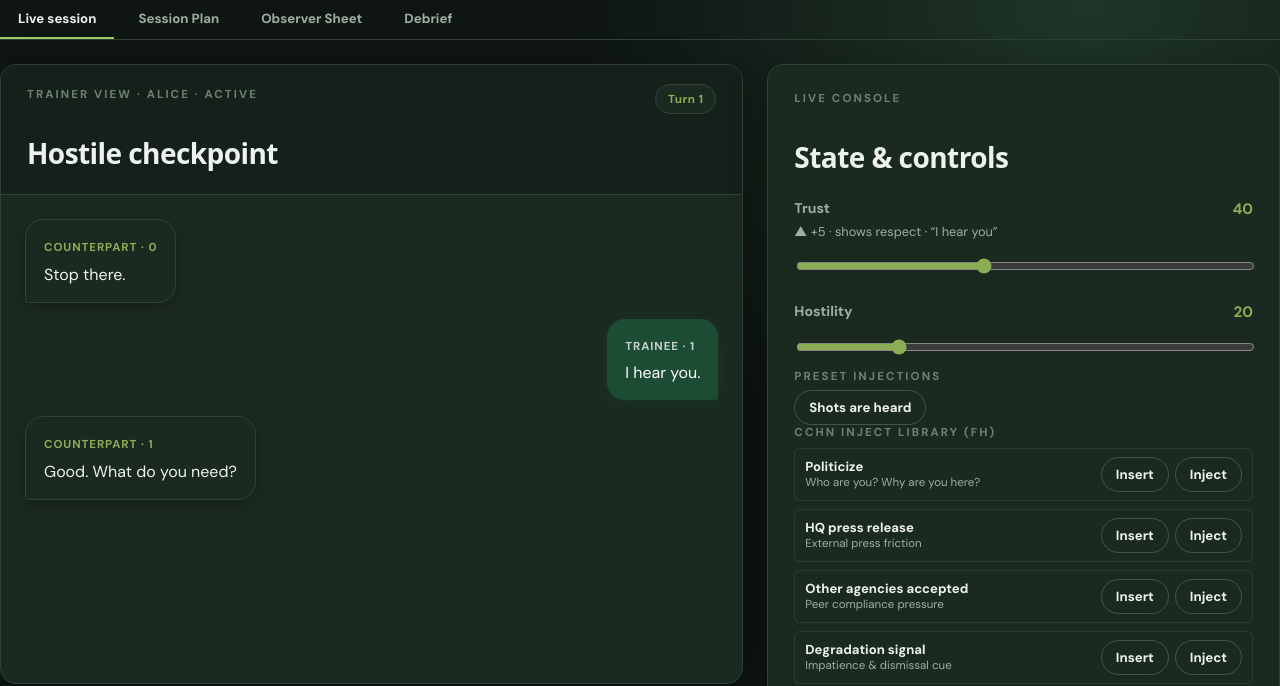
Test case: Watch: trainer features › switches to Observer Sheet tab and displays speaker balance and 6-step checklist
Step 1. Click the tab "Observer Sheet" → (312, 20), box [243, 0, 380, 39]
(page scrolled)
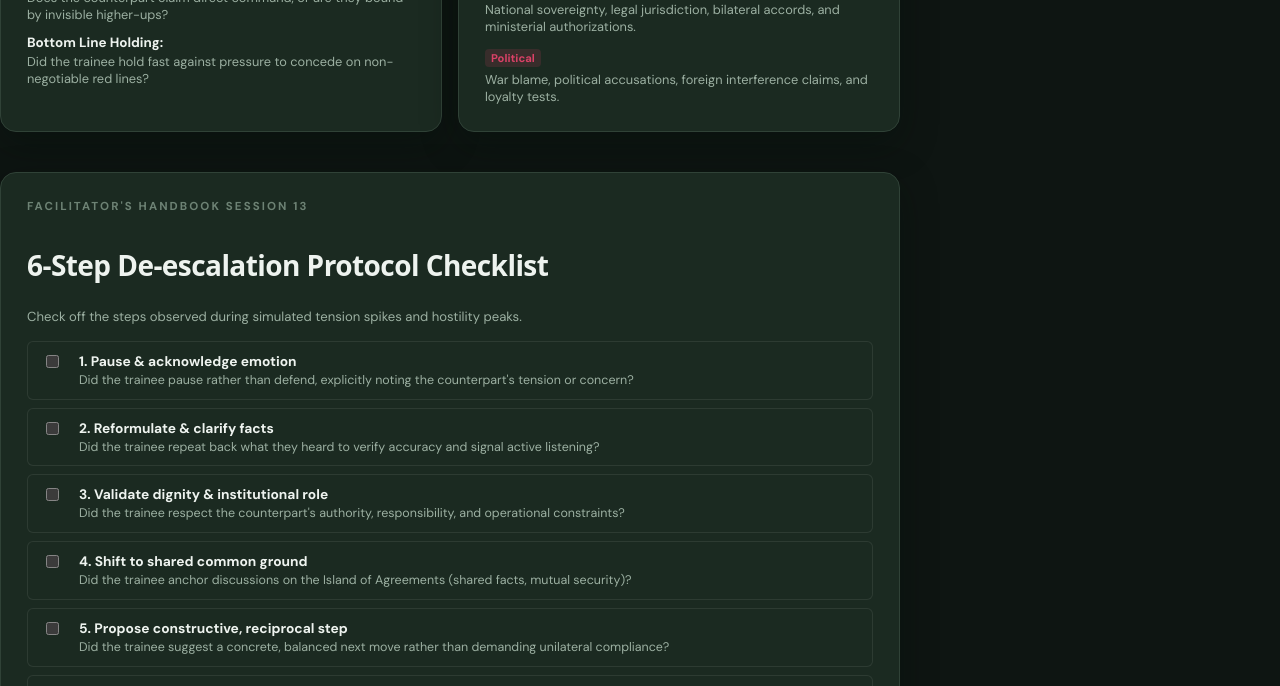
Now the heading "6-Step De-escalation Protocol Checklist" is shown, box [27, 246, 548, 284]
Now the text "1. Pause & acknowledge emotion" is shown, box [79, 352, 297, 370]
